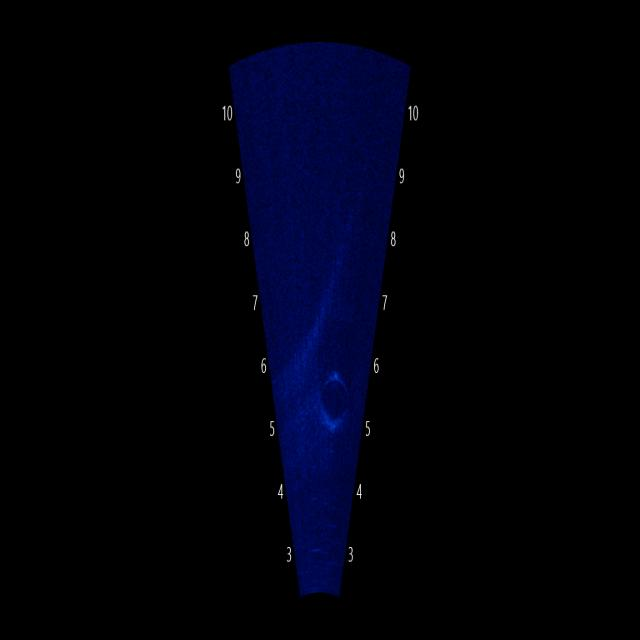circle: (317, 358, 355, 436)
